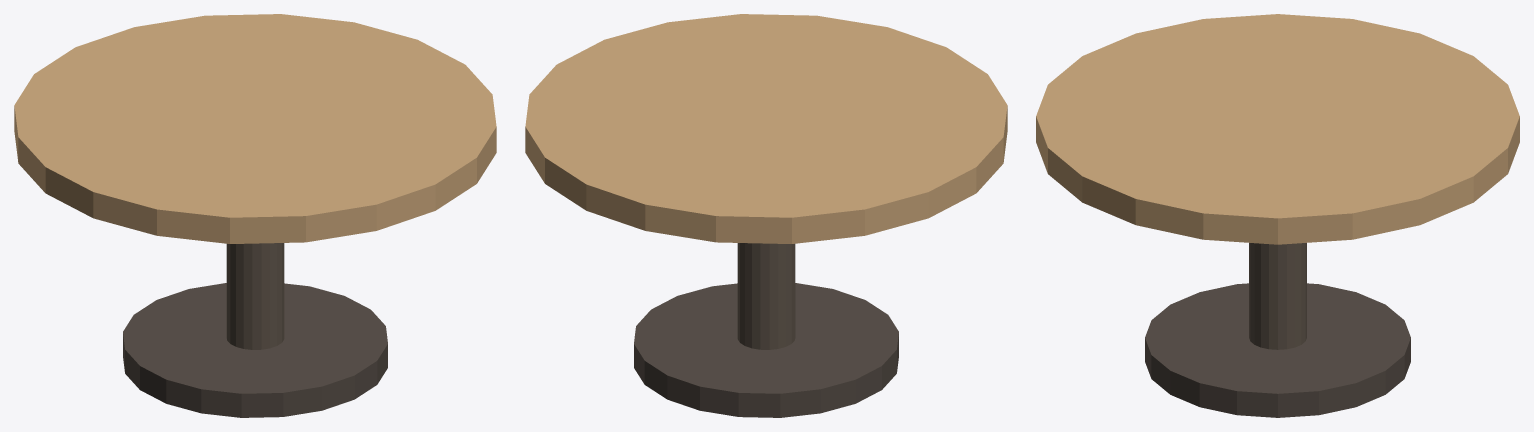
The model's file is PZ_Table.glb.
The picture shows the model from 3 angles, left to right: view 1: azimuth 30°, elevation 25°; view 2: azimuth 150°, elevation 25°; view 3: azimuth 270°, elevation 25°; orthographic projection.
Visible parts, largest first — view 1: PZ_Table; view 2: PZ_Table; view 3: PZ_Table.
Boxes of the visible parts, left/top/right/bottom form: PZ_Table: left=14, top=14, right=496, bottom=417; PZ_Table: left=525, top=14, right=1007, bottom=417; PZ_Table: left=1036, top=14, right=1519, bottom=417.
Size of the model in its own units: 8 by 4.48 by 8.
Materials: 1 (1 with a texture image).
